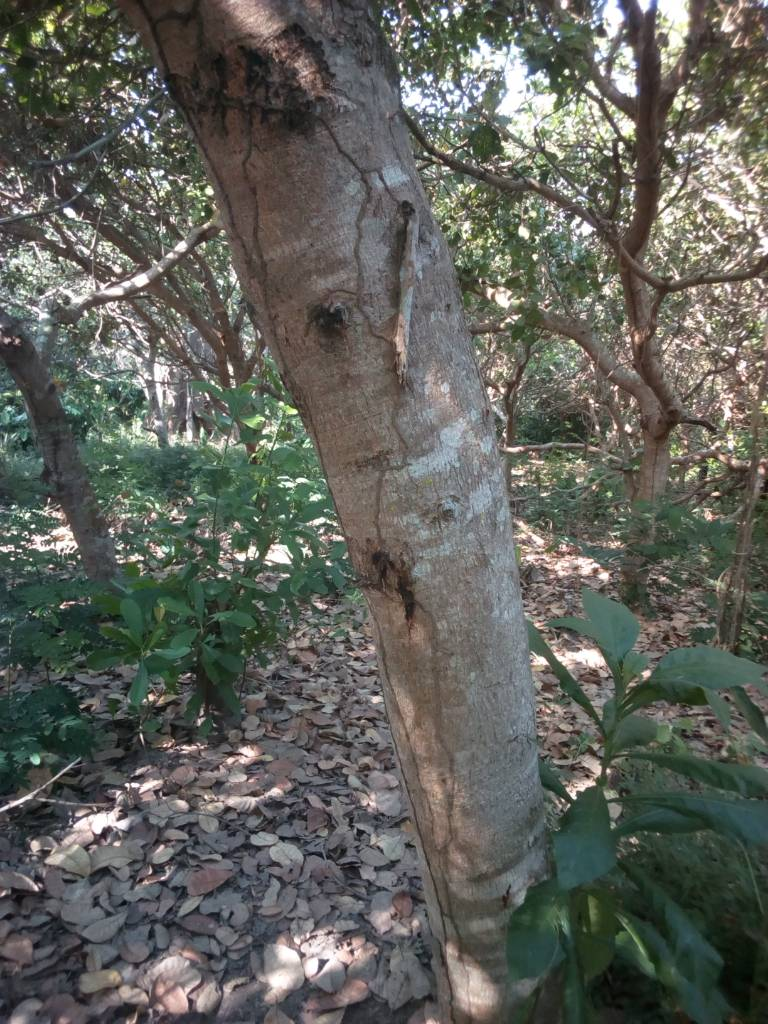Termites: (152, 3, 396, 197), (411, 519, 488, 999)
